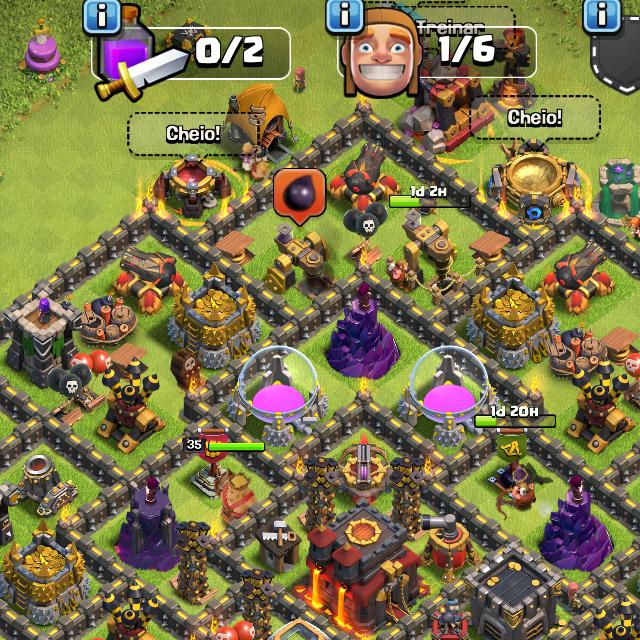FullElixirNegro: (272, 168, 326, 226)
